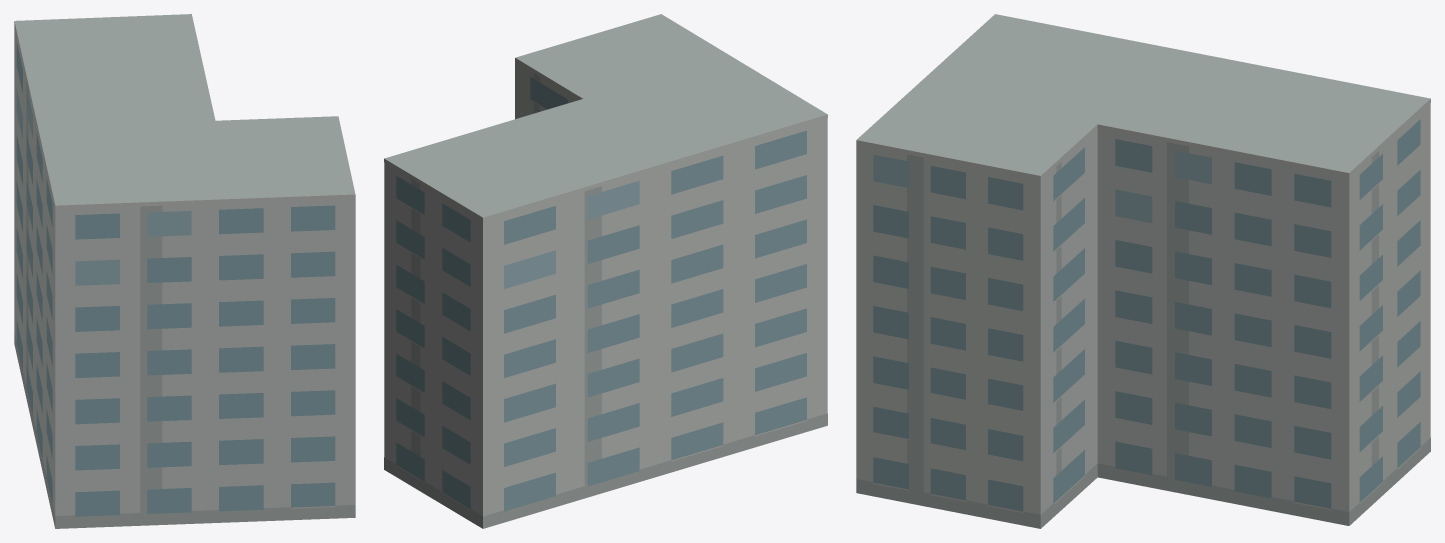
The model's file is survey-upis-33022089.glb.
The picture shows the model from 3 angles, left to right: view 1: azimuth 30°, elevation 25°; view 2: azimuth 150°, elevation 25°; view 3: azimuth 270°, elevation 25°; orthographic projection. The views are drawn at different scales.
Visible parts, largest first — view 1: survey-upis-33022089.tmp; view 2: survey-upis-33022089.tmp; view 3: survey-upis-33022089.tmp.
Part boxes in pixels (box(x1,y1,x2,y2)): survey-upis-33022089.tmp: box(14, 14, 355, 528); survey-upis-33022089.tmp: box(384, 14, 827, 528); survey-upis-33022089.tmp: box(856, 14, 1430, 528).
Size of the model in its own units: 19 by 19.3 by 28.48.
